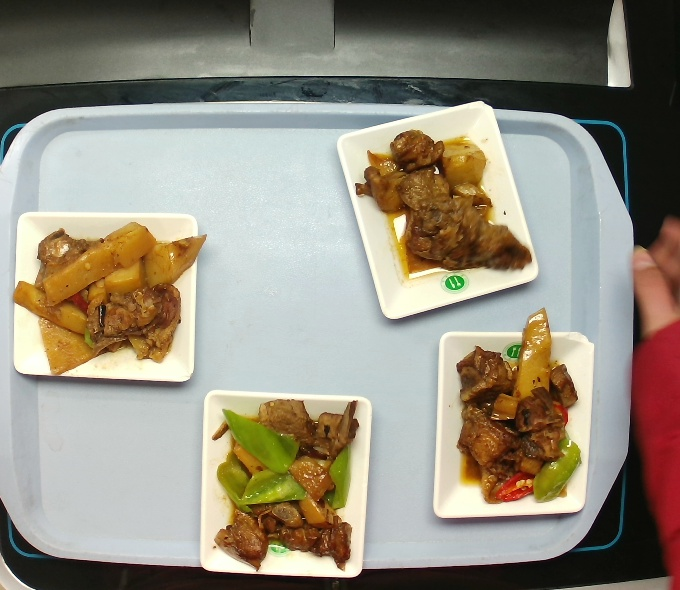wcq-YaRouSunKuai: (7, 213, 207, 382), (347, 122, 536, 283), (208, 390, 362, 576), (437, 330, 593, 499)
